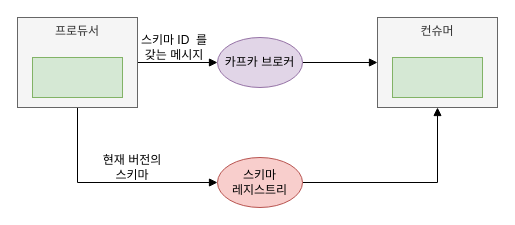
Image size: 515x225. Some labels were removed from this diagram. Here are the shapes that lost their labels. From the top down, the centre of each, then its label:
At pixel 77 77: "시리얼라이저".
At pixel 437 77: "디시리얼라이저".
